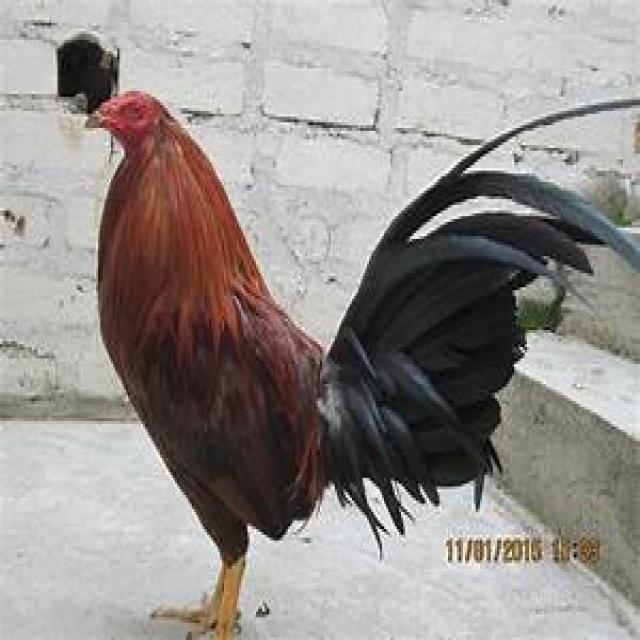hen: (83, 91, 587, 640)
